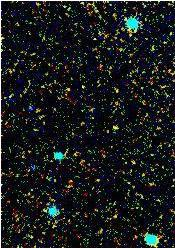star: (97, 111, 127, 141)
